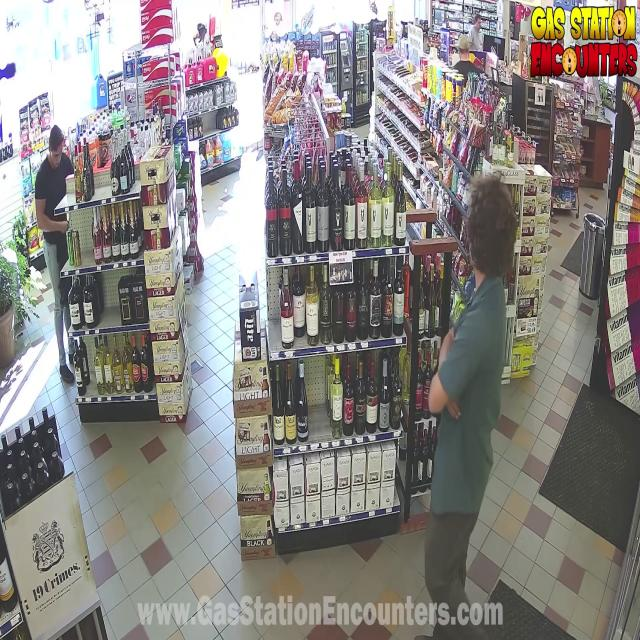normal: (392, 170, 548, 640), (3, 96, 85, 412), (460, 17, 516, 118), (457, 15, 490, 62)
